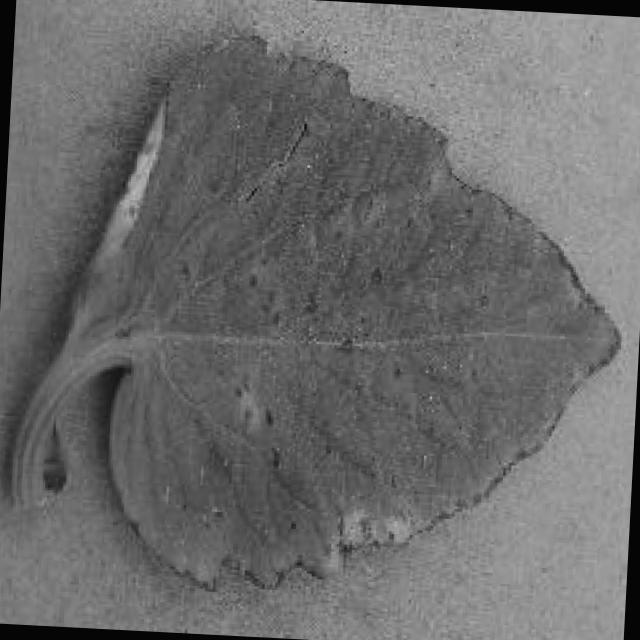bacterial spot: (11, 40, 616, 591)
